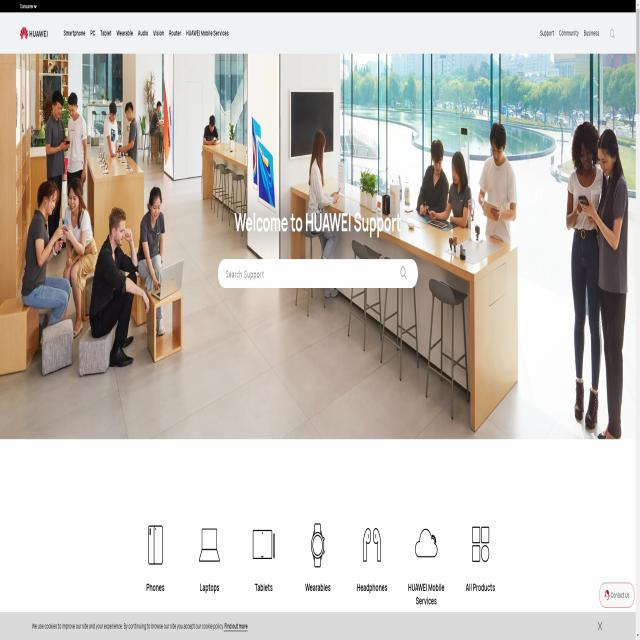search: (218, 259, 418, 288)
